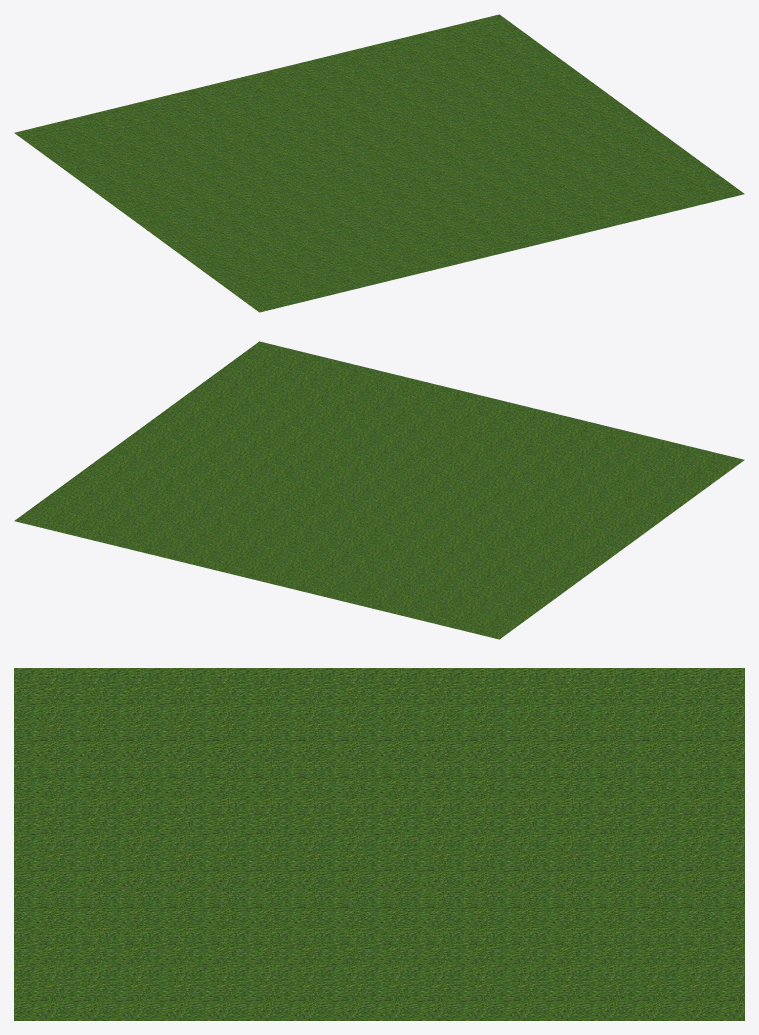
File: ground2.obj
3 views of the same model, one above another, from view 1: azimuth 30°, elevation 25°; view 2: azimuth 150°, elevation 25°; view 3: azimuth 270°, elevation 25° (orthographic). The views are drawn at different scales.
Visible parts, largest first — view 1: pPlane1; view 2: pPlane1; view 3: pPlane1.
Part boxes in pixels (bbox=[...]): pPlane1: bbox=[14, 14, 744, 312]; pPlane1: bbox=[14, 341, 744, 639]; pPlane1: bbox=[14, 668, 744, 1020].
Size of the model in its own units: 831 by 0 by 728.
1 material, 1 textured.
